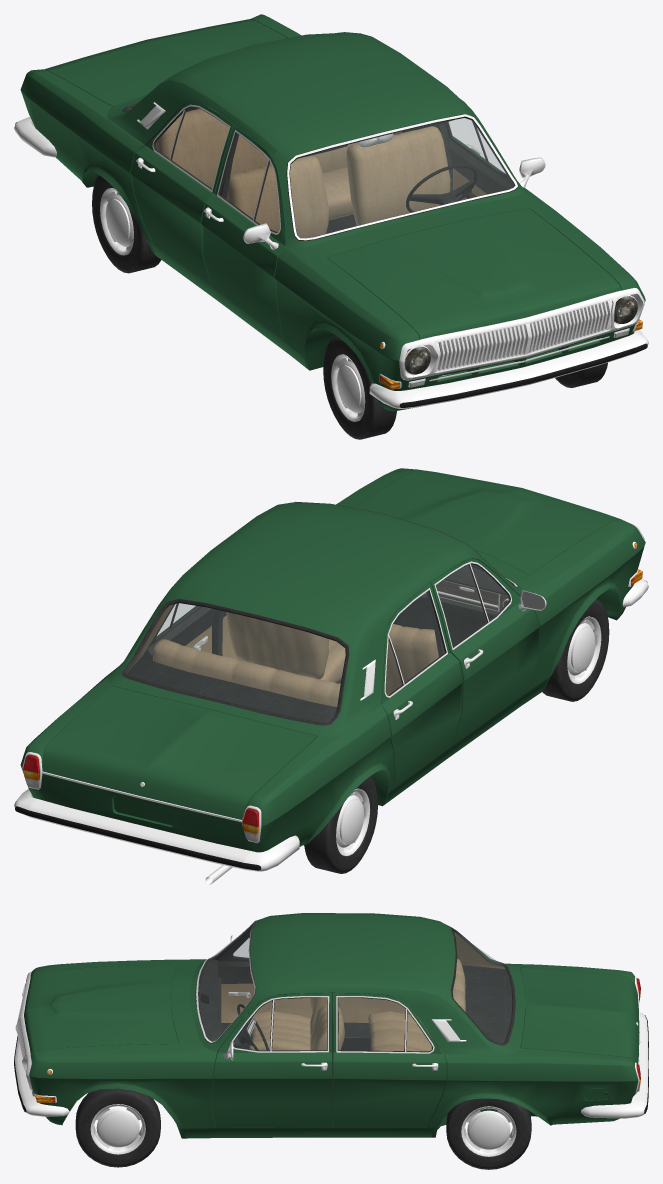
The model's file is volga.glb.
3 renders of one model, top to bottom at view 1: azimuth 30°, elevation 25°; view 2: azimuth 150°, elevation 25°; view 3: azimuth 270°, elevation 25°, orthographic. The views are drawn at different scales.
Parts seen in each view (by area): view 1: Object_138, Object_150, Object_10, Object_182, Object_108, wheel_FR, Object_194, wheel_RR, Object_86, wheel_FL; view 2: Object_138, Object_150, Object_182, Object_10, Object_108, Object_194, wheel_RR, wheel_FR, Object_244; view 3: Object_138, Object_150, Object_182, Object_10, Object_108, wheel_FL, Object_194, wheel_RL.
Boxes of the visible parts, x1=… form: Object_138: x1=20, y1=14, x2=645, y2=411; Object_150: x1=126, y1=96, x2=514, y2=237; Object_10: x1=14, y1=102, x2=648, y2=410; Object_182: x1=128, y1=107, x2=486, y2=238; Object_108: x1=122, y1=101, x2=518, y2=340; wheel_FR: x1=323, y1=336, x2=396, y2=439; Object_194: x1=15, y1=107, x2=647, y2=407; wheel_RR: x1=92, y1=175, x2=160, y2=273; Object_86: x1=404, y1=296, x2=637, y2=374; wheel_FL: x1=555, y1=362, x2=607, y2=387; Object_138: x1=20, y1=468, x2=645, y2=852; Object_150: x1=126, y1=564, x2=510, y2=722; Object_182: x1=127, y1=604, x2=438, y2=706; Object_10: x1=14, y1=526, x2=648, y2=871; Object_108: x1=122, y1=502, x2=522, y2=787; Object_194: x1=15, y1=581, x2=647, y2=870; wheel_RR: x1=304, y1=776, x2=377, y2=873; wheel_FR: x1=542, y1=599, x2=609, y2=701; Object_244: x1=436, y1=580, x2=508, y2=610; Object_138: x1=24, y1=913, x2=639, y2=1138; Object_150: x1=199, y1=925, x2=511, y2=1050; Object_182: x1=221, y1=932, x2=504, y2=1054; Object_10: x1=14, y1=921, x2=648, y2=1148; Object_108: x1=195, y1=921, x2=515, y2=1127; wheel_FL: x1=75, y1=1088, x2=160, y2=1167; Object_194: x1=14, y1=929, x2=648, y2=1113; wheel_RL: x1=446, y1=1098, x2=531, y2=1169.
Size of the model in its own units: 2.08 by 1.49 by 4.73.
Materials: 25 (14 with a texture image).
